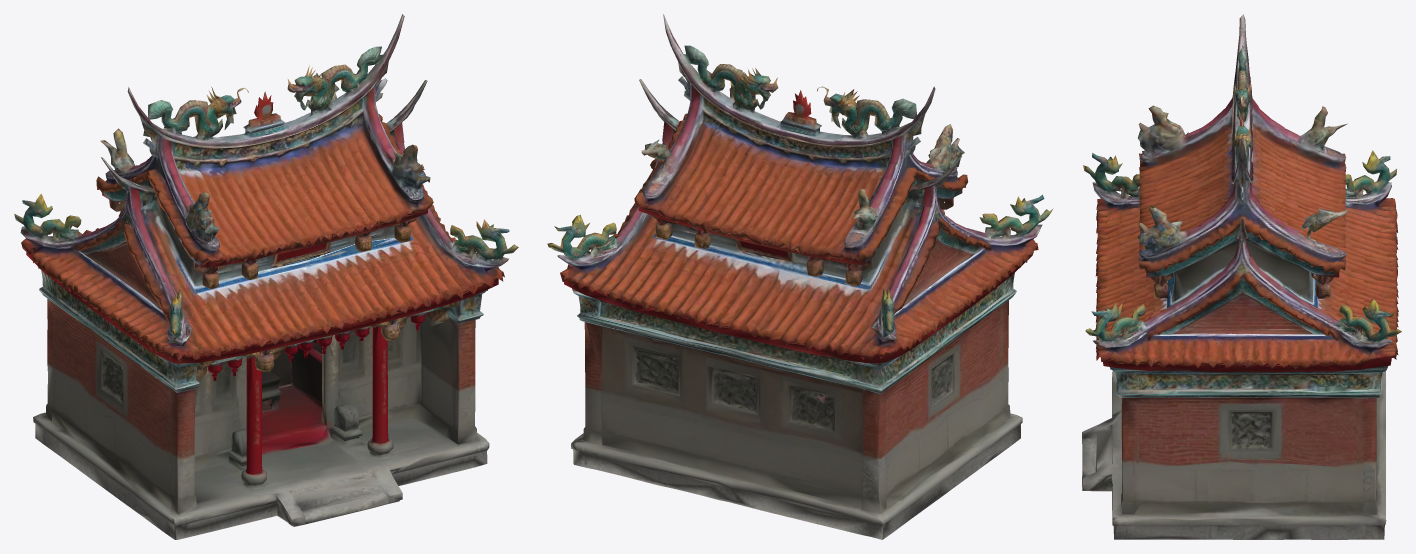
The model's file is temple.glb.
3 views of the same model, side by side, from view 1: azimuth 30°, elevation 25°; view 2: azimuth 150°, elevation 25°; view 3: azimuth 270°, elevation 25° (orthographic). The views are drawn at different scales.
Visible parts, largest first — view 1: tripo_node_17df47dc-2bf1-464d-8edf-d9b9267f4eff; view 2: tripo_node_17df47dc-2bf1-464d-8edf-d9b9267f4eff; view 3: tripo_node_17df47dc-2bf1-464d-8edf-d9b9267f4eff.
Boxes of the visible parts, bbox=[...] form: tripo_node_17df47dc-2bf1-464d-8edf-d9b9267f4eff: bbox=[14, 14, 518, 539]; tripo_node_17df47dc-2bf1-464d-8edf-d9b9267f4eff: bbox=[547, 14, 1053, 539]; tripo_node_17df47dc-2bf1-464d-8edf-d9b9267f4eff: bbox=[1082, 14, 1401, 539].
Size of the model in its own units: 0.8795 by 0.9832 by 0.7231.
Materials: 1 (1 with a texture image).
